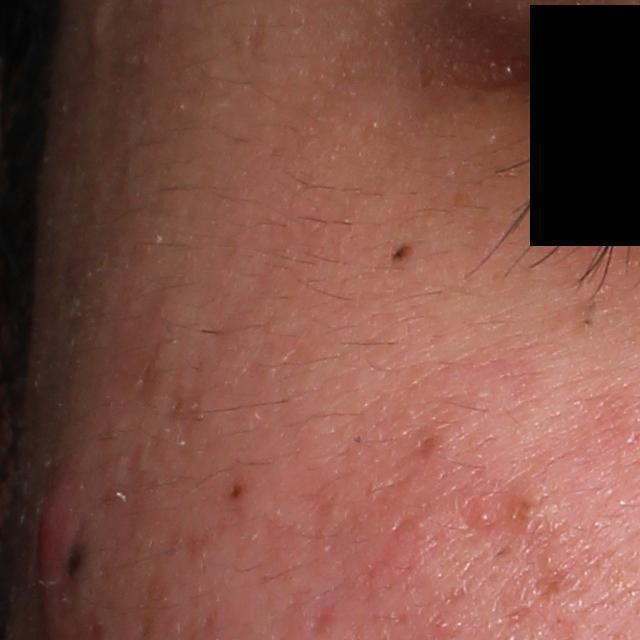atrophic_scar: (306, 601, 343, 640)
nevus: (59, 531, 92, 592), (386, 241, 414, 262), (226, 484, 246, 505)
